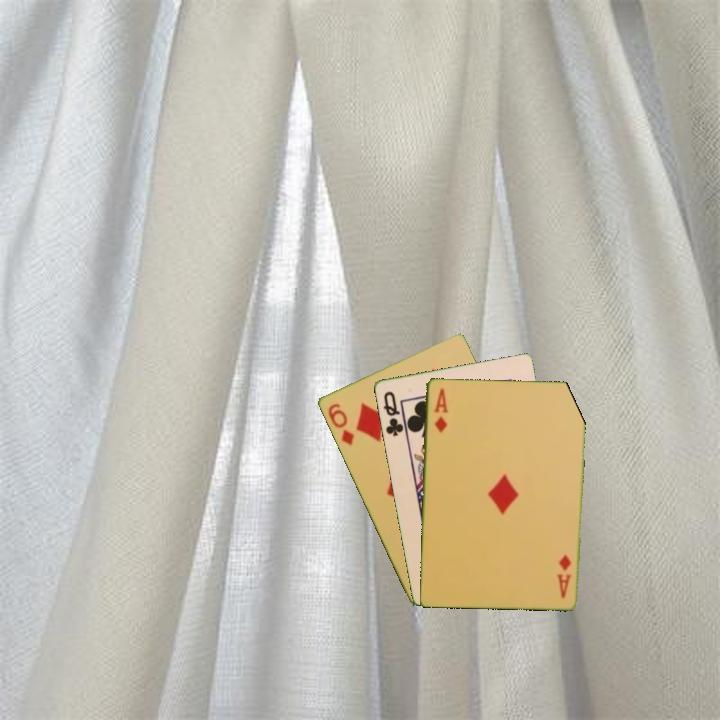6d: (324, 399, 356, 448)
Ad: (430, 384, 450, 435), (555, 551, 574, 601)
Qc: (380, 387, 406, 439)
